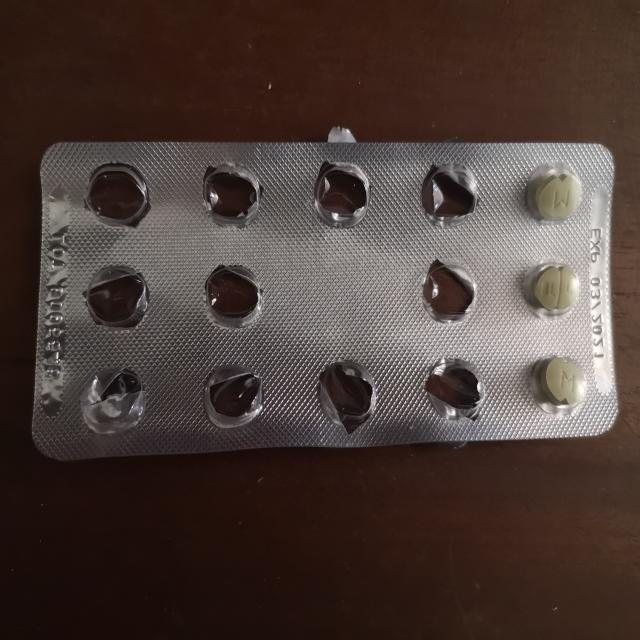Empty: (79, 359, 150, 438), (313, 354, 382, 435), (80, 260, 154, 334), (82, 156, 154, 231), (200, 358, 270, 432), (200, 257, 266, 335), (308, 155, 374, 229), (199, 154, 263, 230), (418, 152, 481, 229), (418, 255, 482, 328), (422, 354, 489, 418)
Pill: (520, 160, 584, 224), (523, 258, 585, 320), (534, 350, 592, 412)
